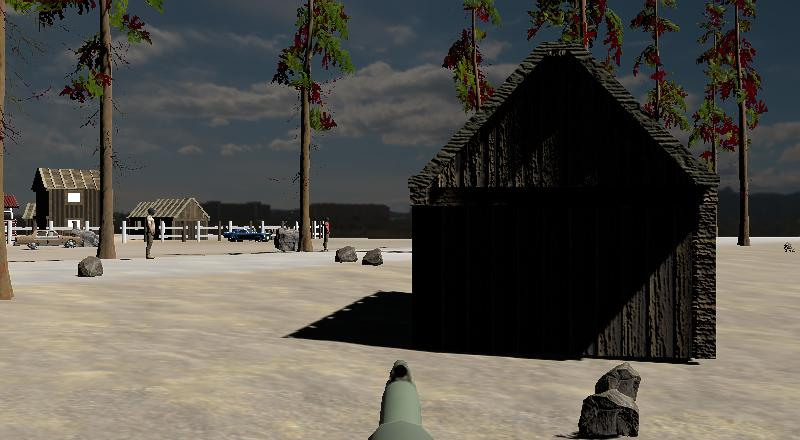House: (31, 167, 98, 236), (150, 196, 210, 240)
car: (13, 228, 86, 249), (224, 226, 270, 243)
